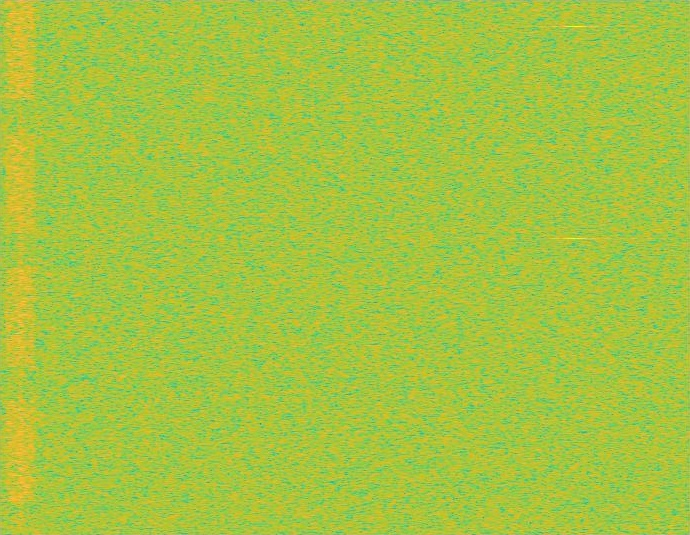5G: (3, 0, 38, 534)
DSSS: (18, 0, 23, 534)
Radar: (568, 0, 582, 534)
